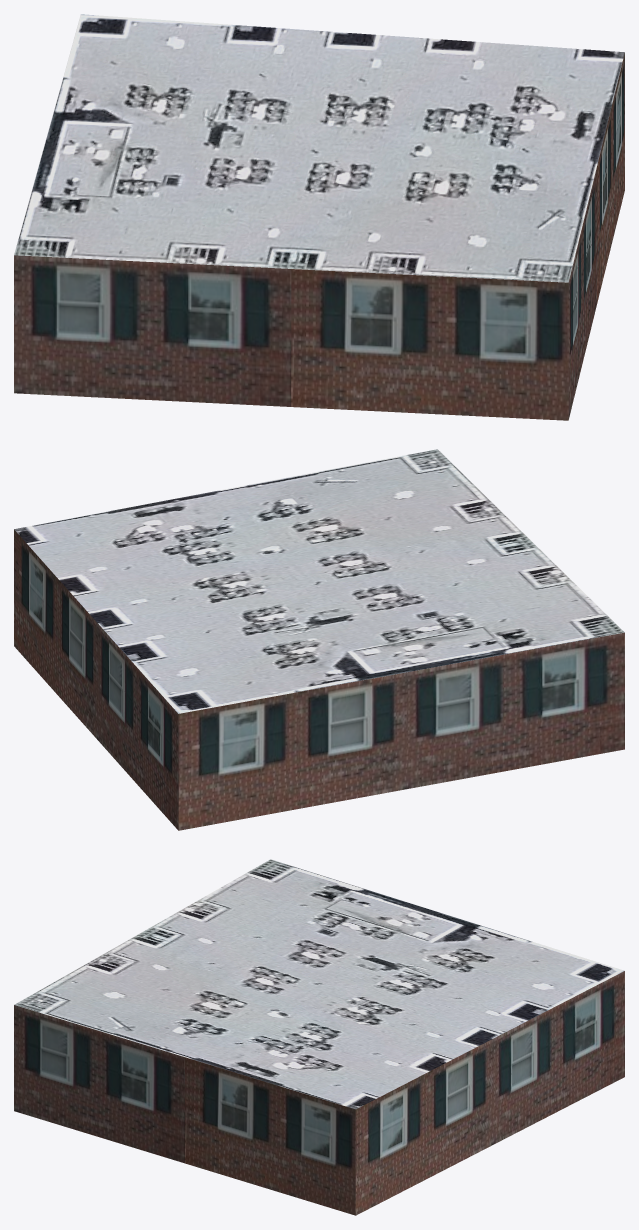
The model's file is ResTex__1984.fbx.
3 views of the same model, one above another, from view 1: azimuth 30°, elevation 25°; view 2: azimuth 150°, elevation 25°; view 3: azimuth 270°, elevation 25° (orthographic). The views are drawn at different scales.
Parts seen in each view (by area): view 1: CityEngineMaterial_8_m, CityEngineMaterial_14_m; view 2: CityEngineMaterial_8_m, CityEngineMaterial_14_m; view 3: CityEngineMaterial_8_m, CityEngineMaterial_14_m.
Part boxes in pixels (x1,y1,x2,y2): CityEngineMaterial_8_m: (14,14,624,282); CityEngineMaterial_14_m: (14,53,624,420); CityEngineMaterial_8_m: (14,449,624,713); CityEngineMaterial_14_m: (14,529,624,830); CityEngineMaterial_8_m: (14,859,624,1109); CityEngineMaterial_14_m: (14,971,624,1215).
Size of the model in its own units: 15.15 by 3 by 15.64.
2 materials, 2 textured.
